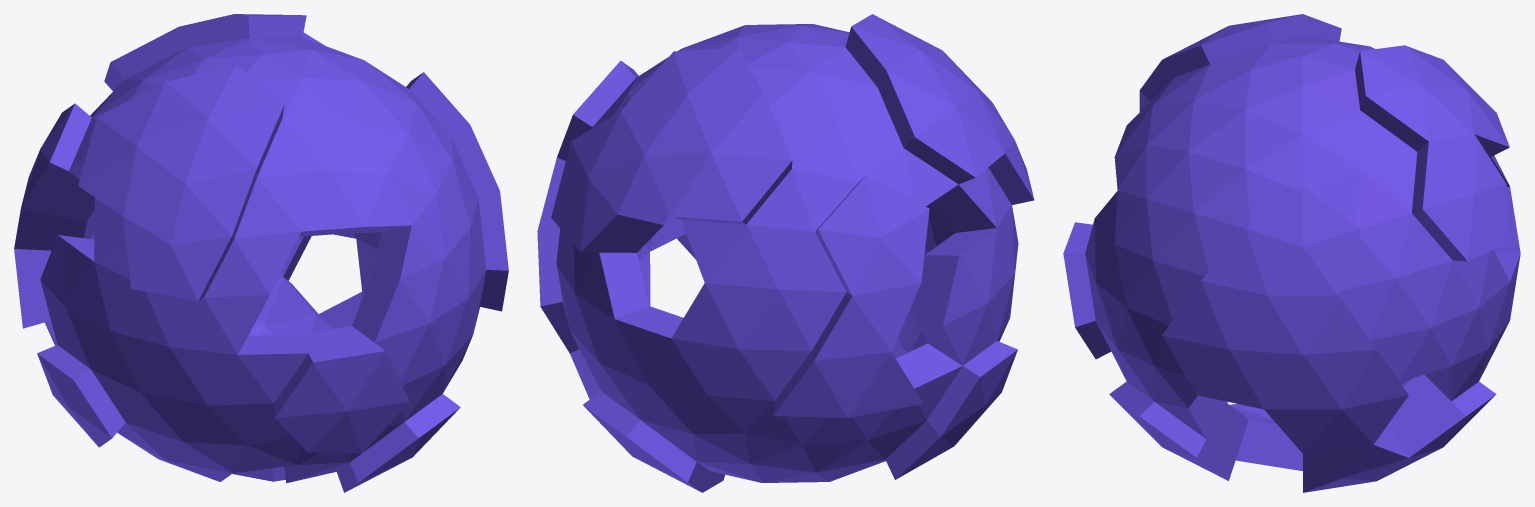
The model's file is planet_test.glb.
The picture shows the model from 3 angles, left to right: view 1: azimuth 30°, elevation 25°; view 2: azimuth 150°, elevation 25°; view 3: azimuth 270°, elevation 25°; orthographic projection. The views are drawn at different scales.
Visible parts, largest first — view 1: Crust; view 2: Crust; view 3: Crust.
Boxes of the visible parts, x1,y1,x2,y2 form: Crust: [14, 14, 508, 492]; Crust: [537, 14, 1034, 492]; Crust: [1063, 14, 1520, 492].
Bounding box in the file's own units: 21.52 × 21.29 × 21.
